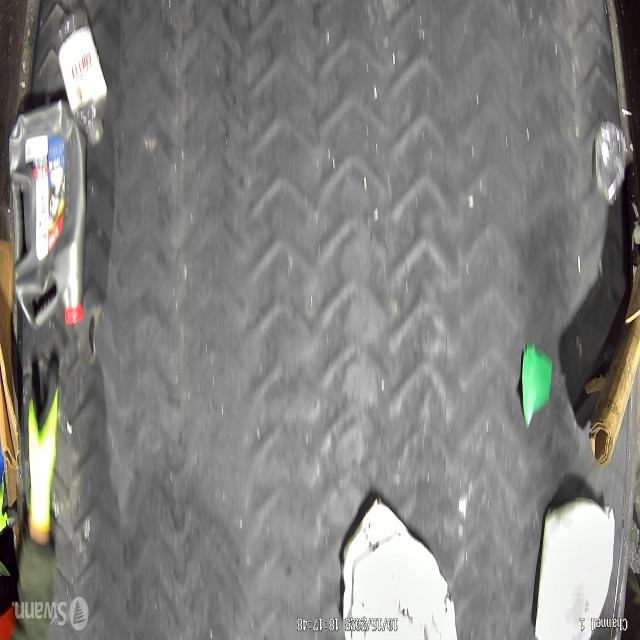milk_jug: (533, 499, 617, 640)
non_white_jug: (8, 98, 86, 328)
plastic_bottle: (55, 5, 109, 146)
